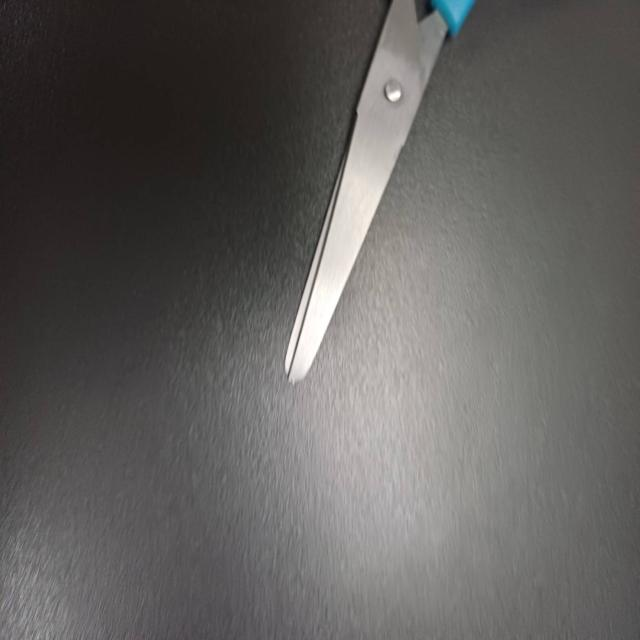scissors: (273, 0, 486, 389)
